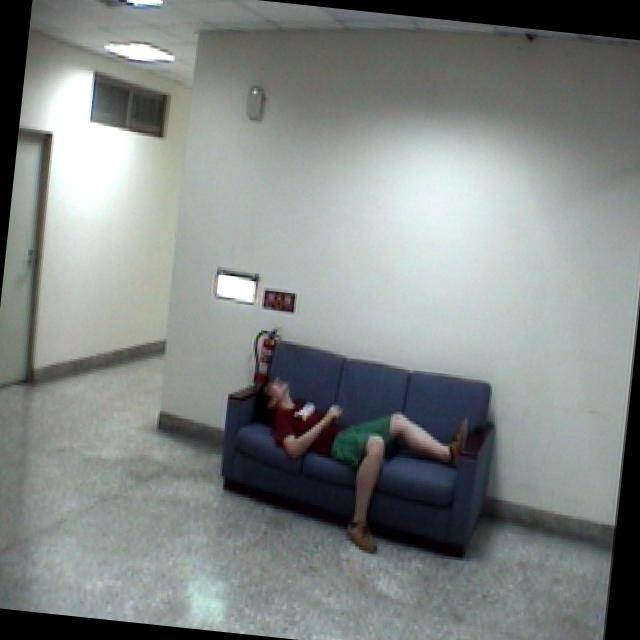lie: (235, 364, 480, 564)
